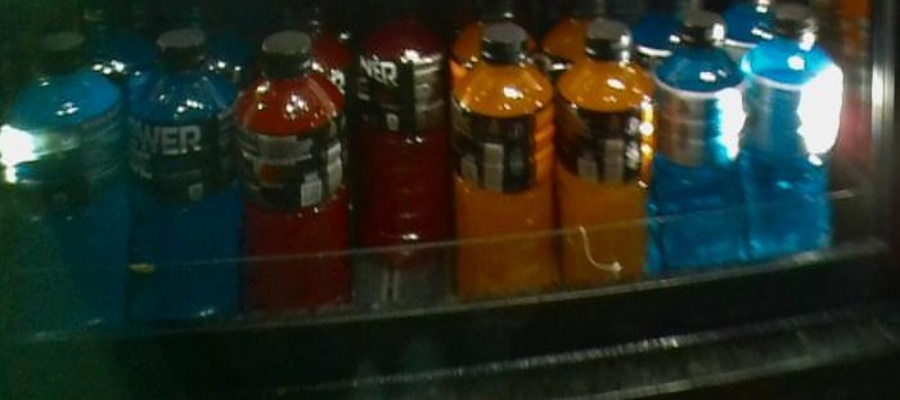bottle: (4, 25, 120, 331), (239, 26, 348, 325), (125, 32, 235, 325), (453, 26, 553, 291), (559, 20, 653, 294), (658, 15, 747, 280), (355, 9, 446, 265), (753, 8, 838, 274)
